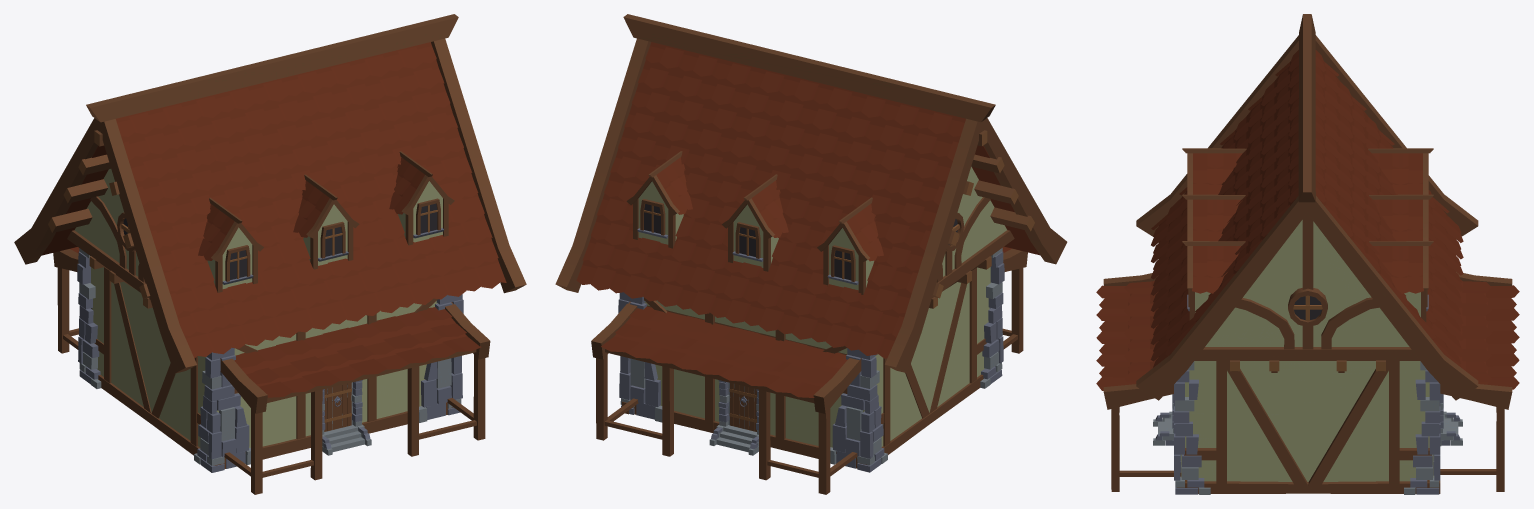
Rendered from fantasy-inn.glb.
The picture shows the model from 3 angles, left to right: view 1: azimuth 30°, elevation 25°; view 2: azimuth 150°, elevation 25°; view 3: azimuth 270°, elevation 25°; orthographic projection.
Visible parts, largest first — view 1: Inn; view 2: Inn; view 3: Inn.
Part boxes in pixels (x1,y1,x2,y2): Inn: (14, 14, 526, 494); Inn: (555, 14, 1067, 494); Inn: (1096, 14, 1519, 494).
Size of the model in its own units: 4.03 by 3.49 by 4.02.
1 material, 1 textured.
